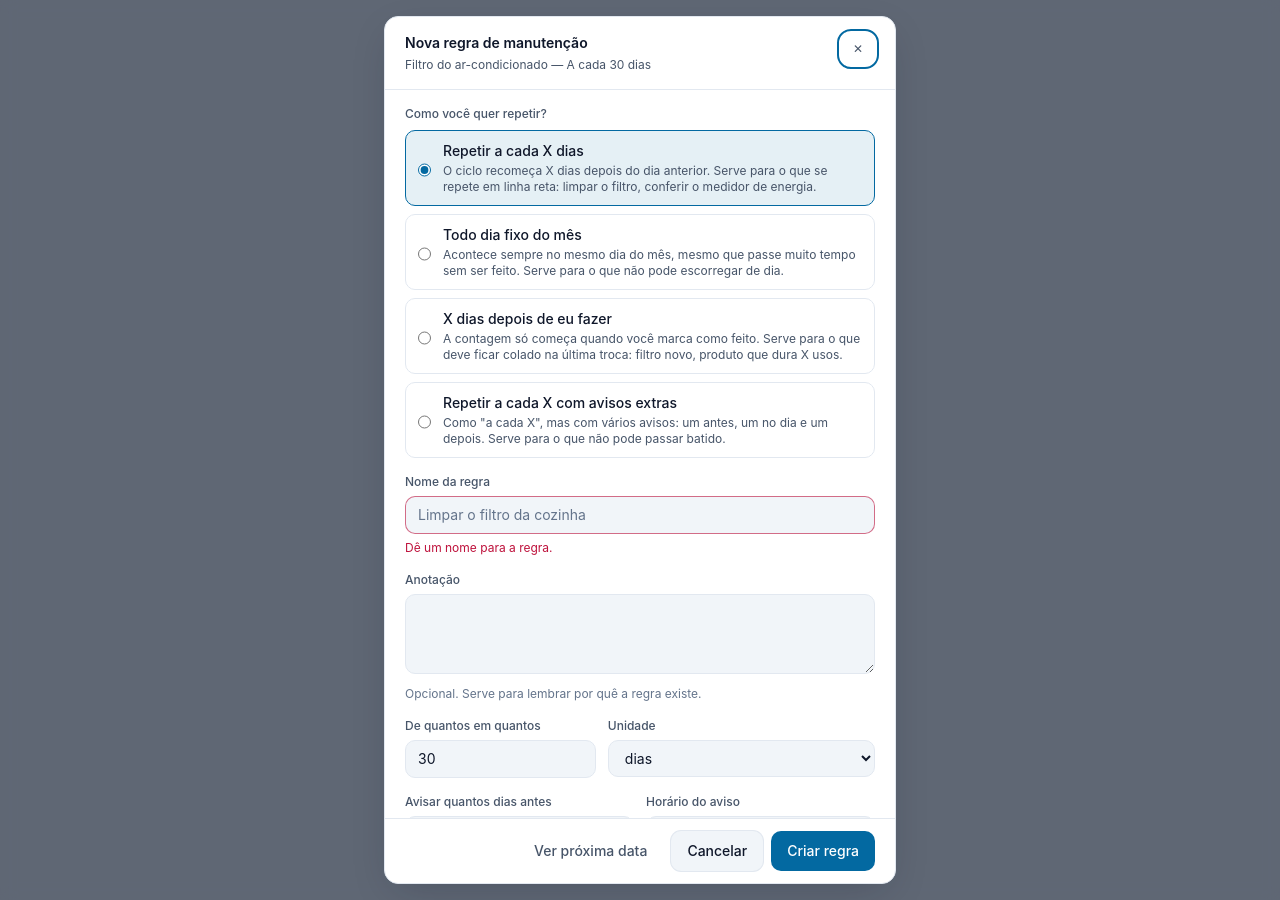
Test case: TriggerBuilderModal › cria uma regra de 30 dias em três interações
In the field labelled "Nome da regra": (640, 515) [405,496,875,534], type "Limpar o filtro"
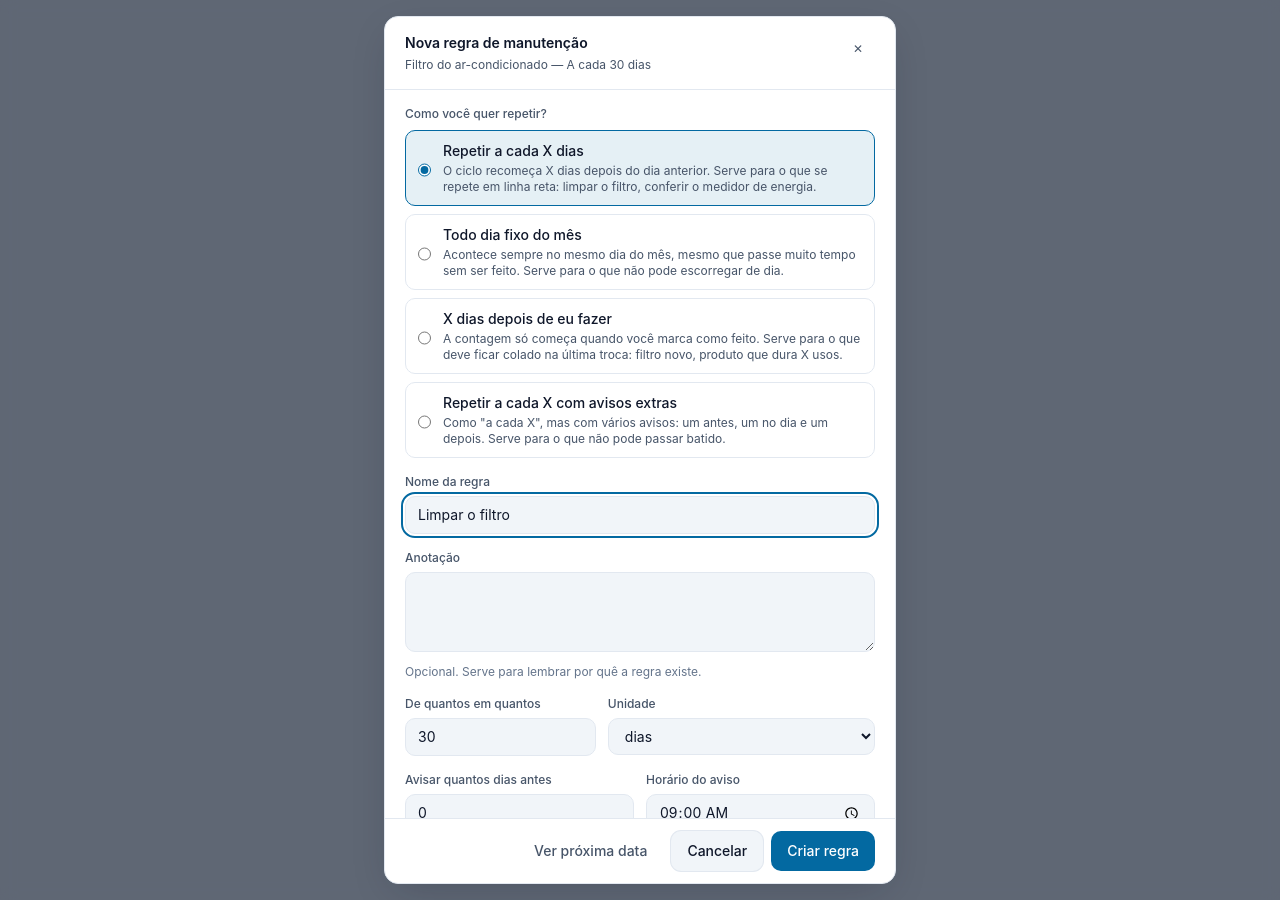
Click the button "Criar regra": click(823, 851) [771,831,875,871]
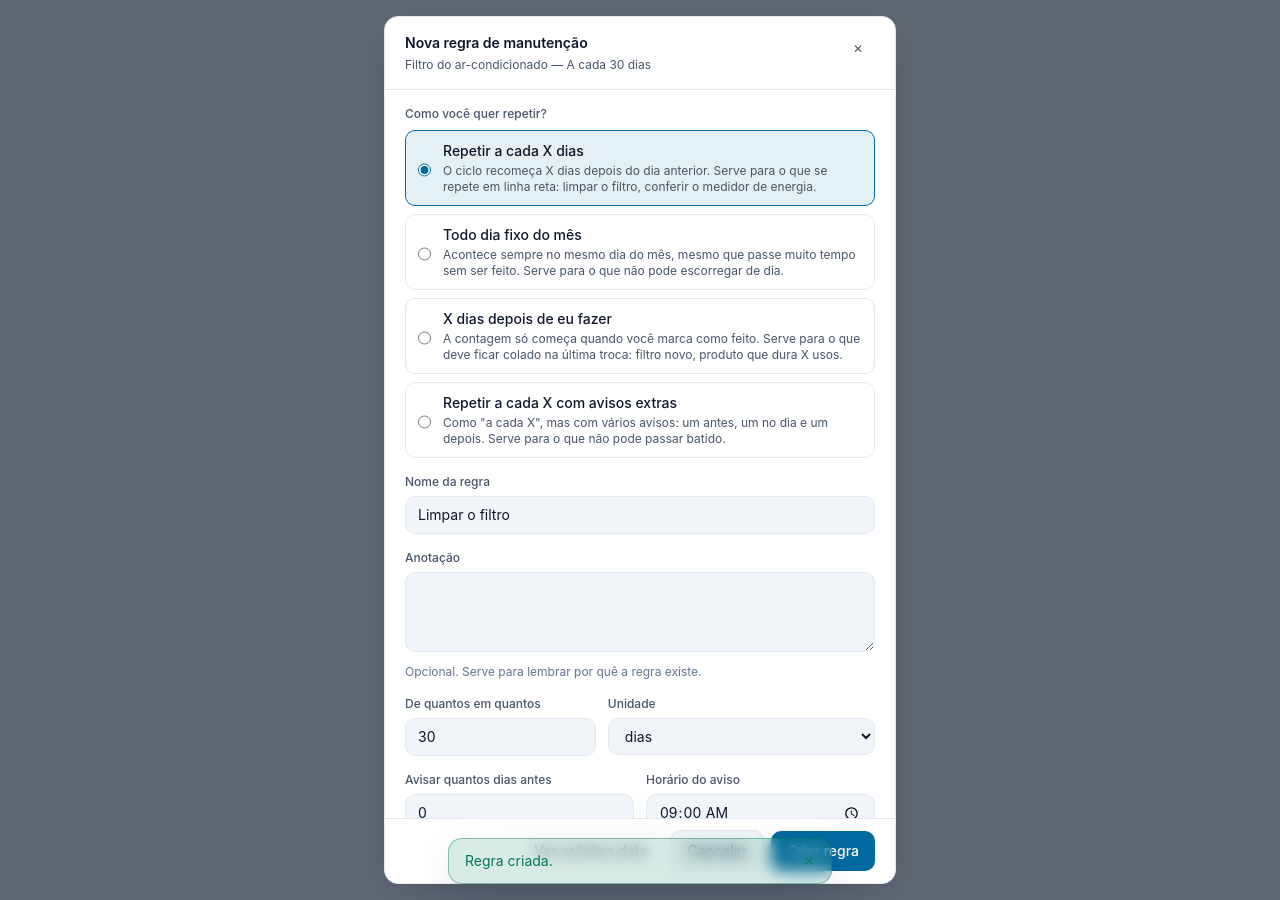
Result: the text "Regra criada." is shown at [465,851,553,871]
